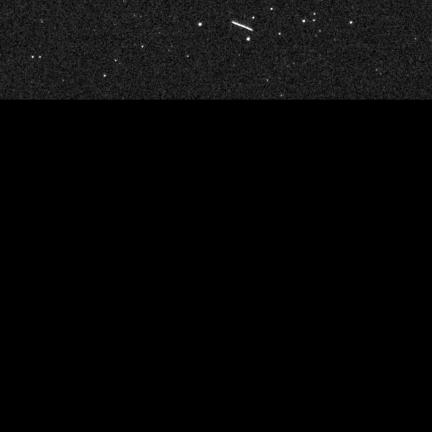blob: (141, 45, 144, 49), (104, 74, 107, 78), (350, 21, 353, 25), (303, 20, 306, 23), (39, 56, 42, 59), (319, 30, 322, 33), (32, 56, 35, 59), (199, 23, 202, 26), (313, 19, 316, 22), (279, 33, 281, 36), (314, 13, 316, 16), (247, 38, 250, 40), (271, 8, 273, 11), (253, 17, 255, 19)
streak: (232, 22, 253, 31)
